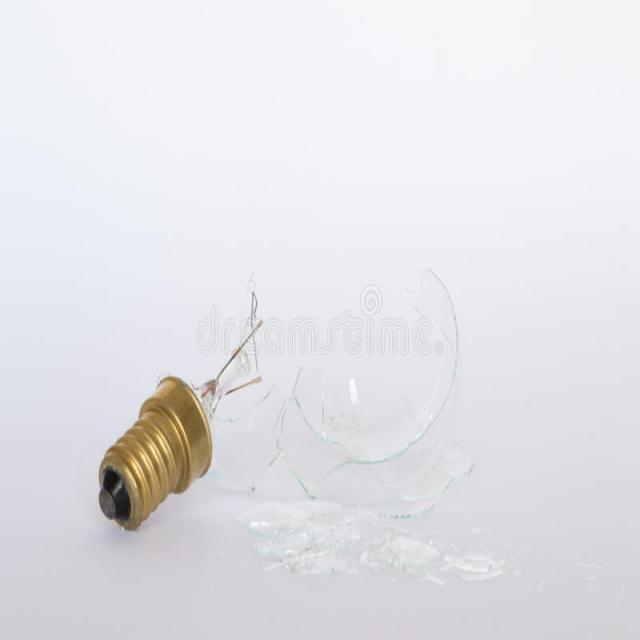Hazard: (72, 234, 467, 562)
